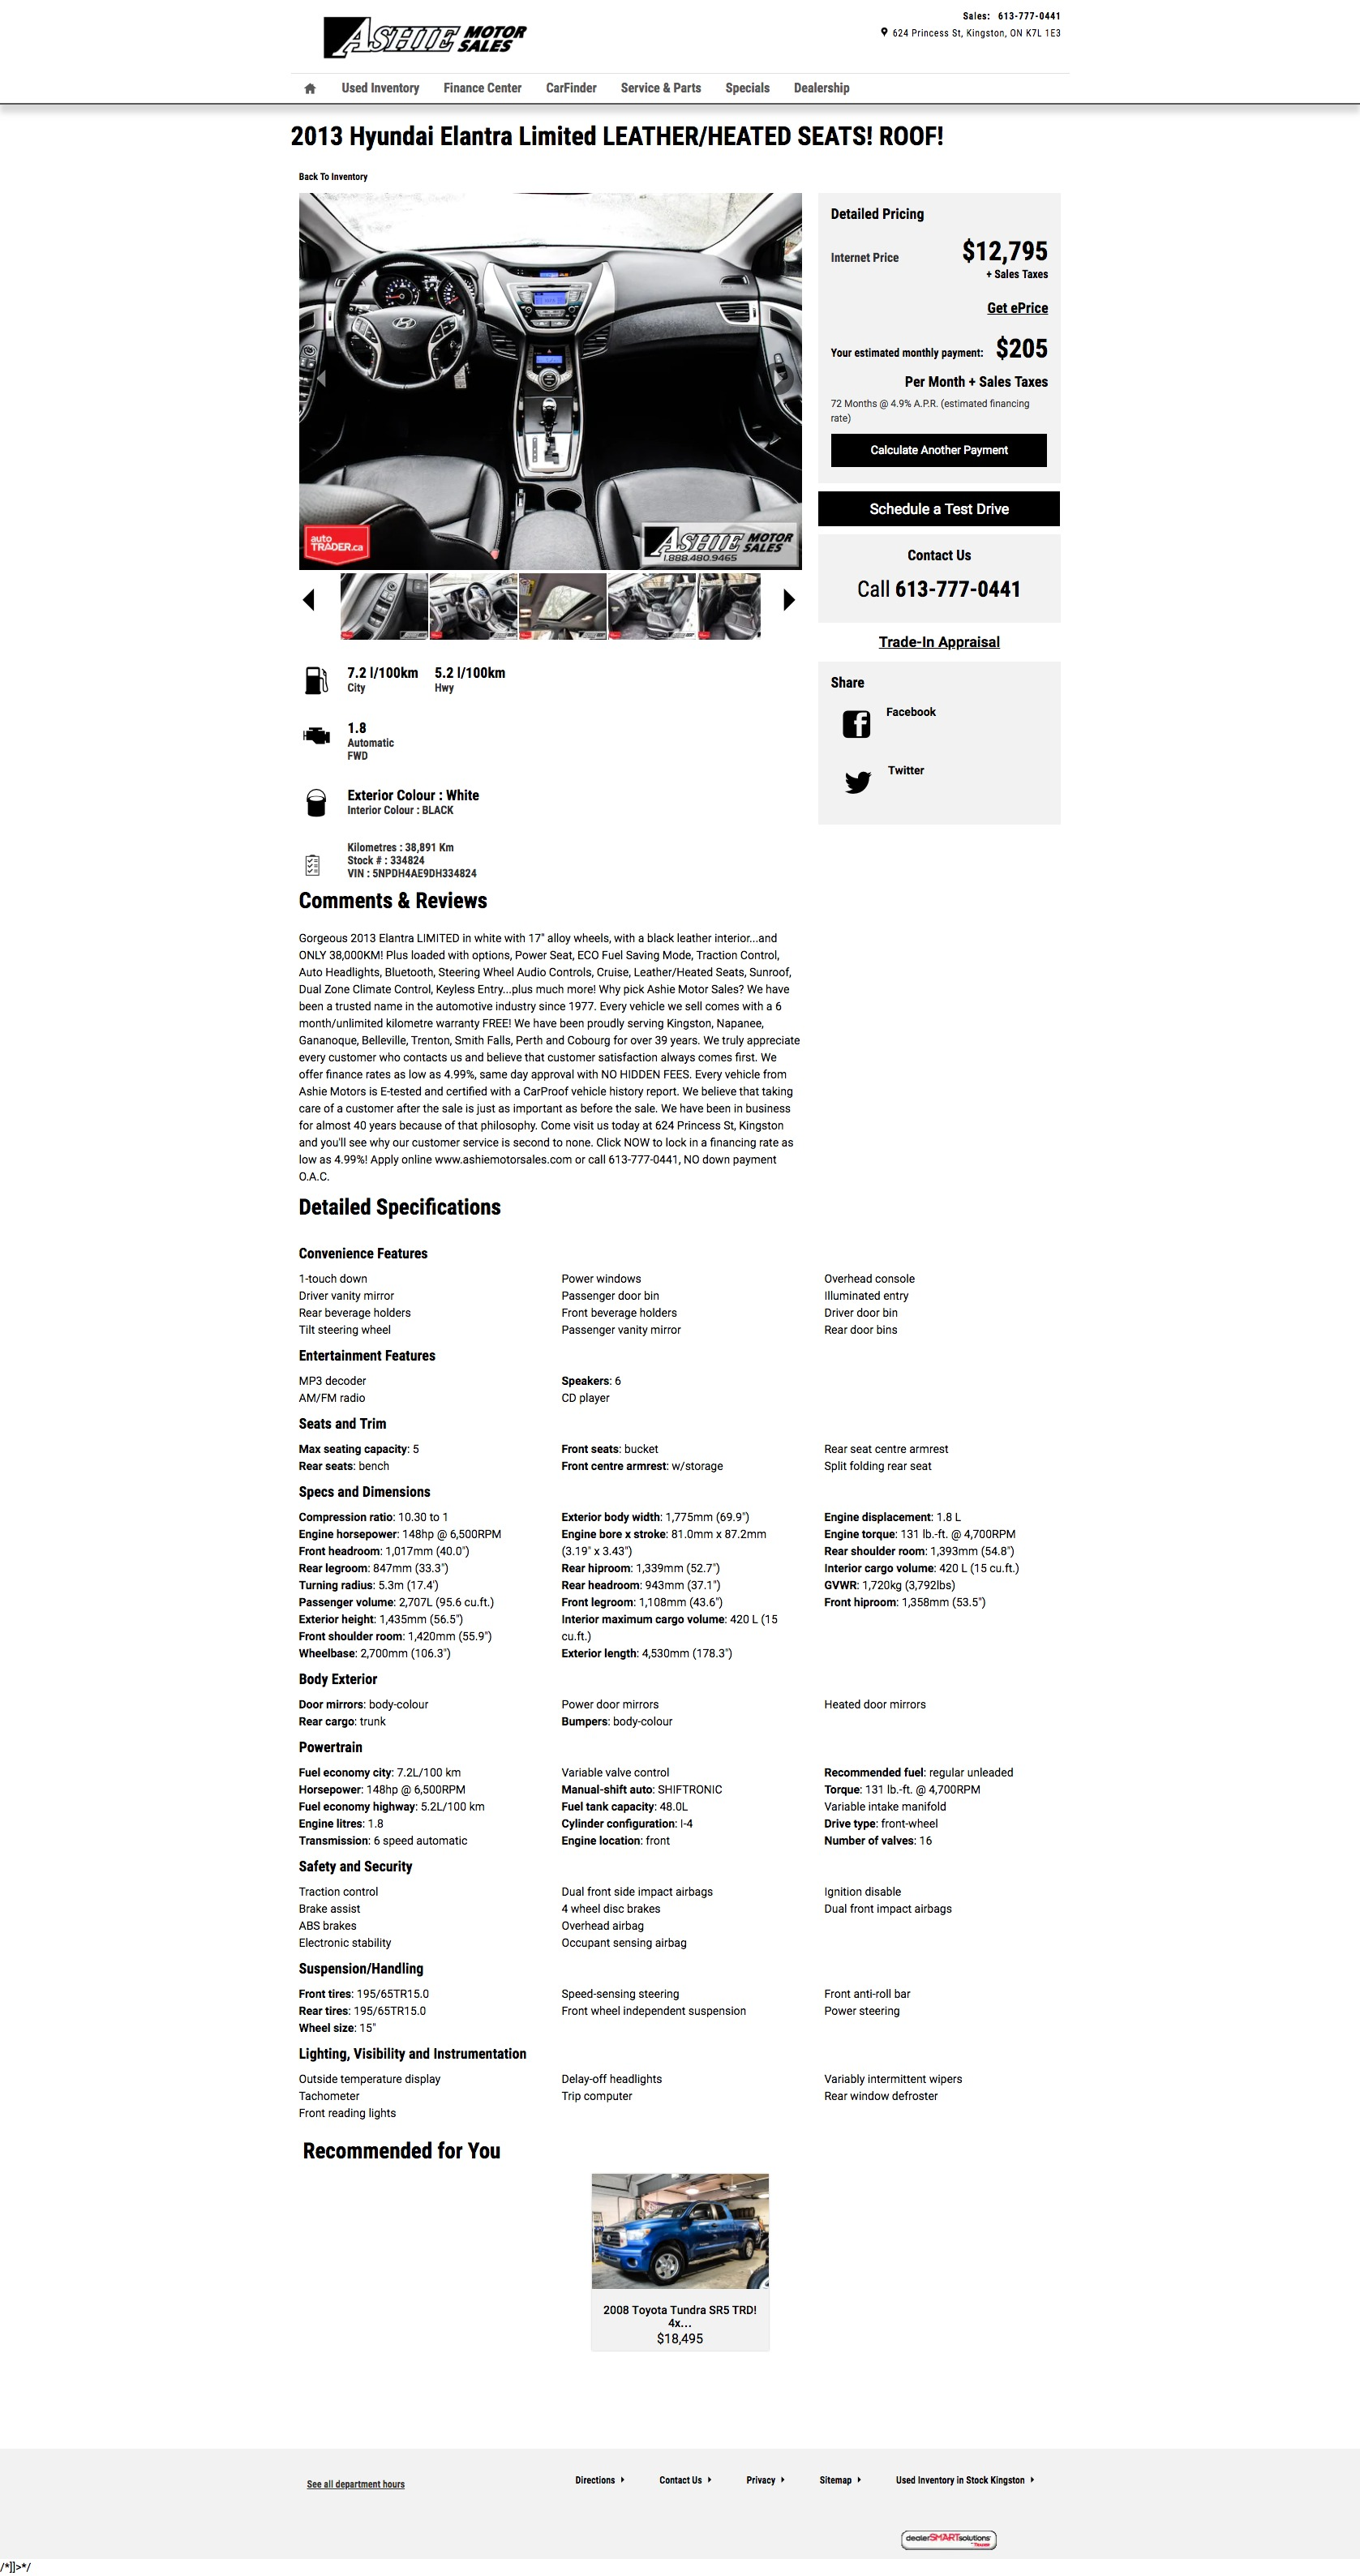car: (782, 589, 796, 613)
